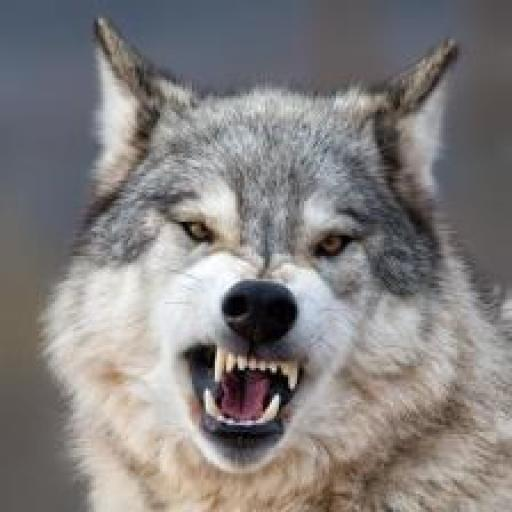wolf: (23, 0, 511, 512)
